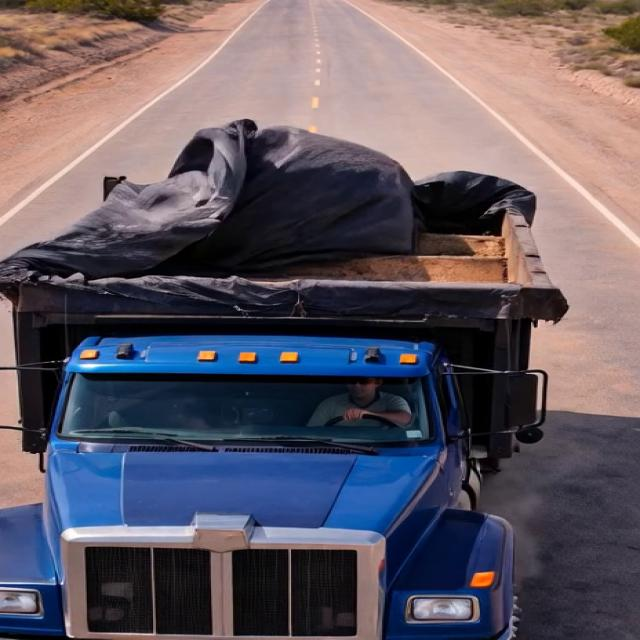Box: (1, 77, 634, 638)
Truck: (10, 115, 590, 327)
